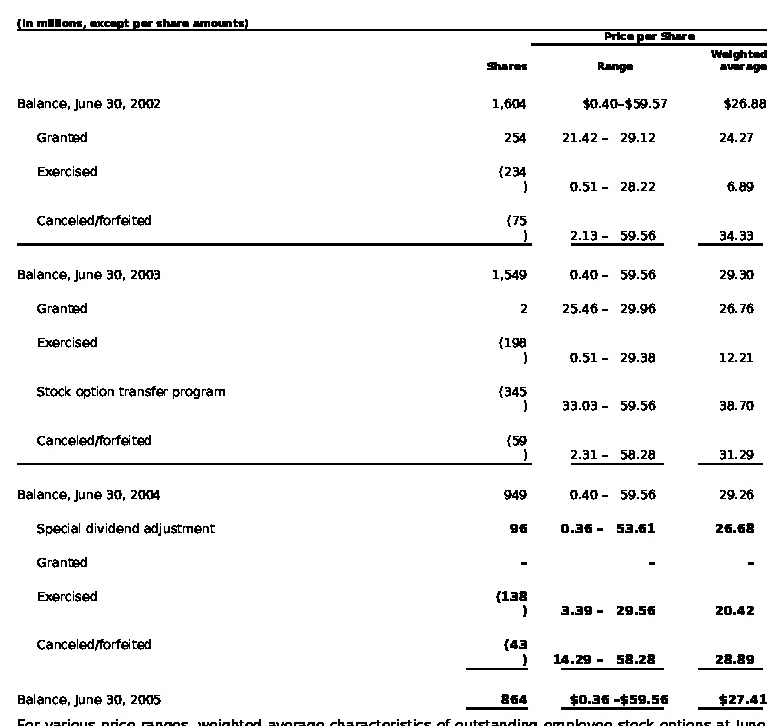table: (0, 0, 782, 726)
